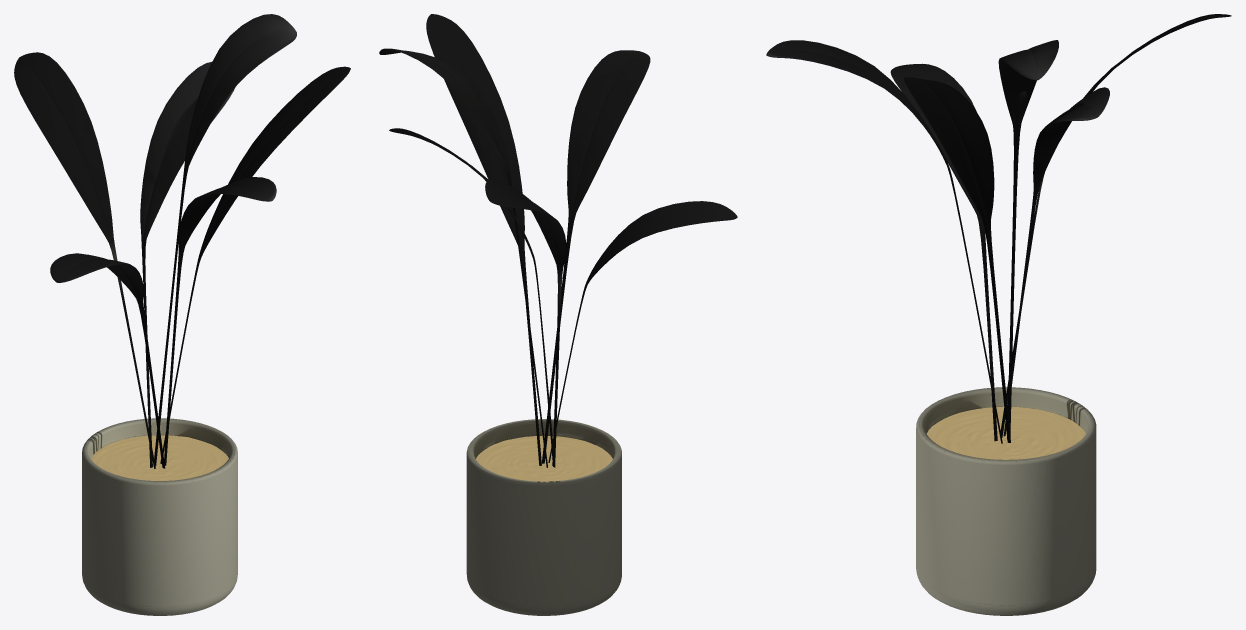
The model's file is Plant.glb.
3 renders of one model, left to right at view 1: azimuth 30°, elevation 25°; view 2: azimuth 150°, elevation 25°; view 3: azimuth 270°, elevation 25°, orthographic. The views are drawn at different scales.
Parts seen in each view (by area): view 1: Cylinder; view 2: Cylinder; view 3: Cylinder.
Boxes of the visible parts, box(x1,y1,x2,y2) form: Cylinder: box(14, 14, 350, 615); Cylinder: box(379, 14, 737, 615); Cylinder: box(766, 14, 1231, 615).
Bounding box in the file's own units: 1.62 × 2.7 × 1.87.
3 materials, 2 textured.
